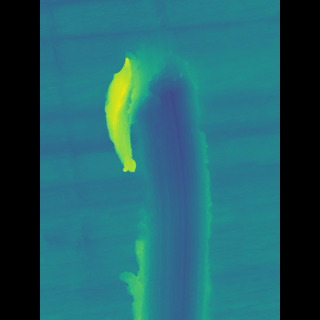Loch: (116, 42, 201, 320)
